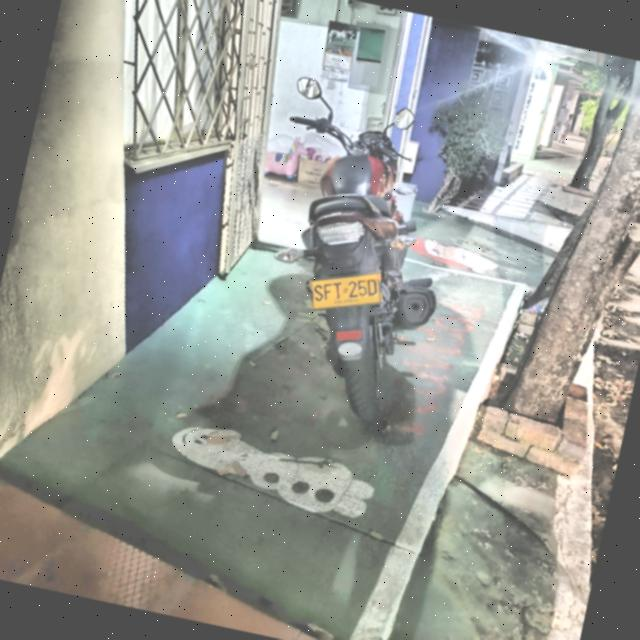2: (347, 280, 358, 298)
5: (357, 279, 367, 297)
D: (366, 278, 377, 297)
F: (323, 283, 332, 301)
S: (313, 284, 324, 303)
T: (332, 281, 342, 300)
